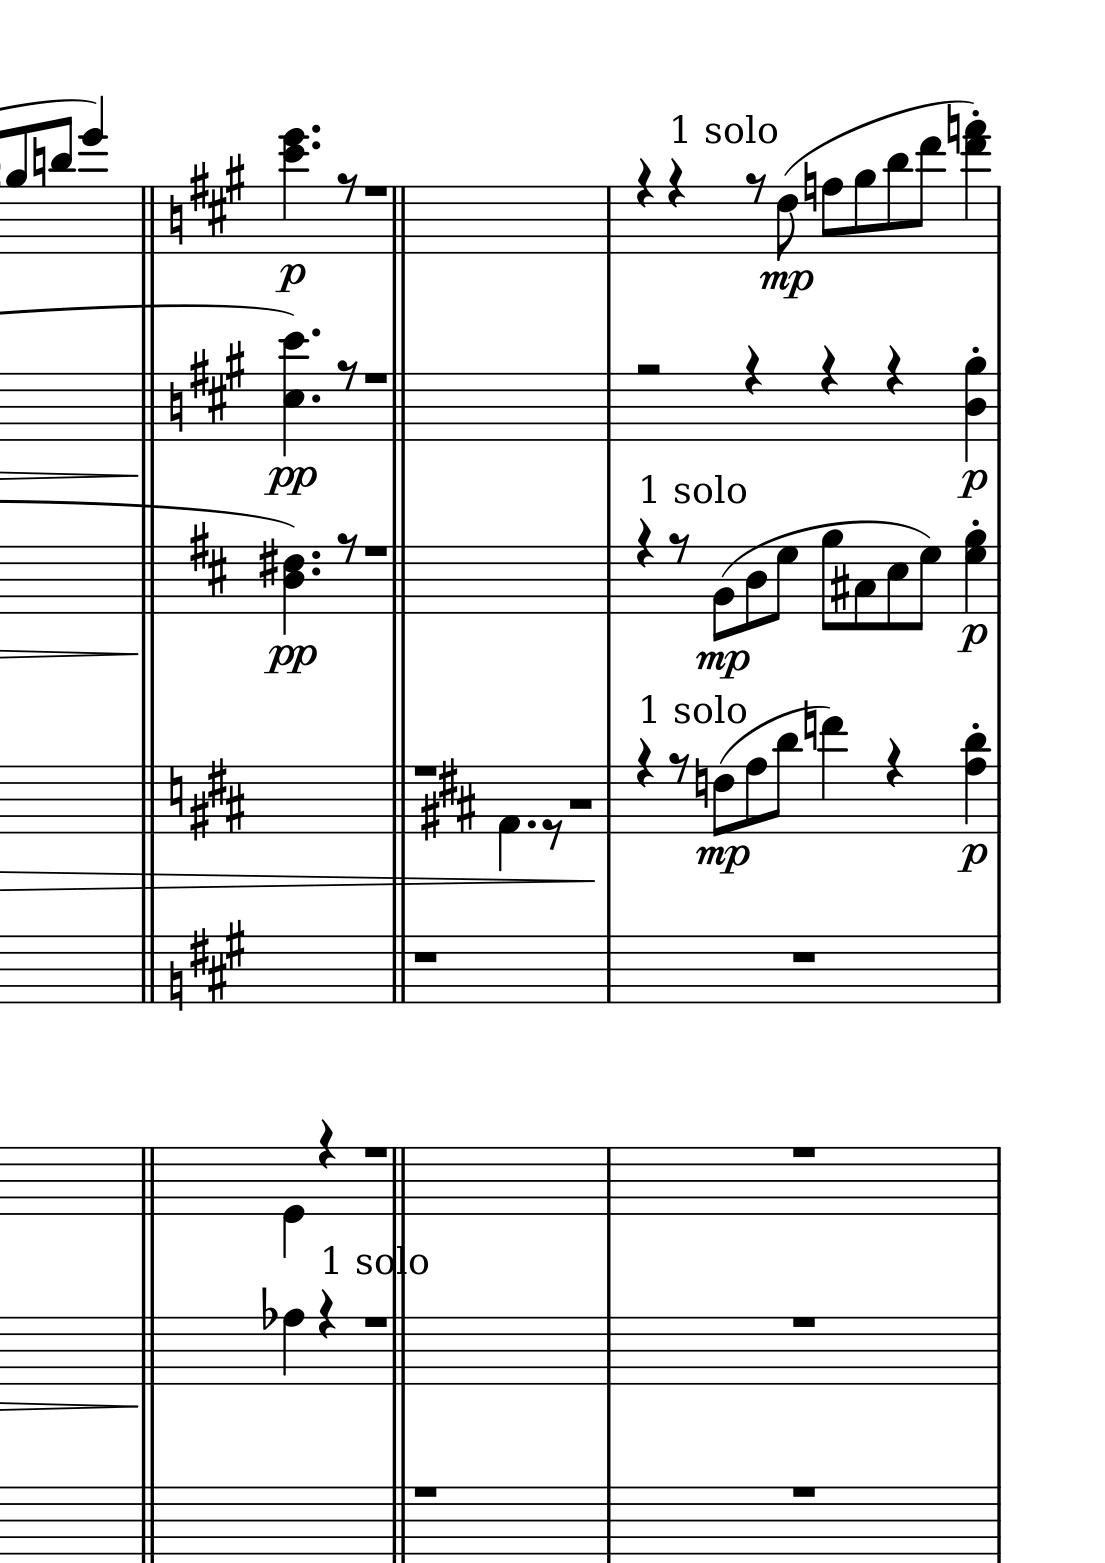4_0: (280, 1144, 304, 1260)
4_1: (495, 762, 520, 873)
4_12_14: (277, 128, 310, 257)
4_13: (817, 715, 845, 835)
4_13_15: (961, 118, 990, 255)
4_14: (78, 94, 106, 260)
4_4_6: (282, 545, 306, 636)
4_4_9: (961, 355, 988, 462), (964, 529, 988, 616)
4_5_12: (279, 331, 309, 457)
4_8: (281, 1307, 305, 1388)
4_8_11: (961, 731, 993, 836)
8_11: (47, 111, 73, 257), (768, 729, 800, 835), (884, 152, 910, 256)
8_13: (912, 136, 942, 255)
8_2: (712, 545, 734, 639)
8_3: (850, 547, 877, 633)
8_4: (744, 545, 767, 631)
8_5: (884, 544, 908, 633)
8_6: (774, 183, 798, 262), (710, 763, 734, 837)
8_7: (911, 544, 941, 631), (768, 544, 798, 625)
8_8: (819, 176, 843, 256), (743, 756, 767, 835)
8_9: (4, 128, 28, 255), (819, 529, 845, 630), (851, 167, 877, 256)
A_S: (187, 151, 248, 239), (185, 344, 248, 425), (187, 758, 248, 839), (189, 918, 246, 1001), (421, 762, 478, 836)
Double_barline: (132, 764, 164, 834), (133, 1485, 165, 1555), (383, 936, 414, 1005), (133, 1315, 163, 1385), (384, 1486, 414, 1553), (133, 935, 161, 1005), (384, 1146, 413, 1215), (133, 372, 161, 440), (134, 1147, 161, 1215), (385, 187, 413, 254), (385, 374, 413, 441), (134, 547, 161, 613), (385, 1318, 413, 1385), (385, 765, 411, 834), (386, 547, 413, 613), (135, 185, 160, 255)
Flat: (260, 1286, 277, 1333)
Natural: (164, 958, 187, 1013), (164, 380, 185, 434), (165, 193, 185, 249), (165, 764, 185, 819), (29, 133, 47, 190), (945, 100, 963, 157), (692, 756, 708, 810), (802, 700, 817, 755), (801, 160, 816, 213)
Rests1: (409, 1482, 441, 1503), (788, 1480, 819, 1502), (408, 947, 441, 966), (788, 1311, 819, 1331), (787, 1142, 819, 1161), (788, 948, 819, 966), (359, 1143, 390, 1161), (408, 761, 436, 780), (360, 182, 390, 200), (359, 1314, 389, 1332), (360, 370, 389, 387), (361, 543, 389, 560)
Rests2: (564, 790, 596, 814), (631, 359, 665, 380)
Rests4: (817, 342, 840, 397), (883, 342, 905, 397), (883, 735, 904, 790), (316, 1117, 337, 1172), (665, 157, 686, 210), (741, 343, 763, 396), (634, 155, 654, 209), (634, 738, 654, 792), (316, 1288, 336, 1342), (634, 518, 653, 569)
Rests8: (541, 816, 566, 850), (335, 358, 359, 392), (335, 530, 359, 564), (335, 171, 359, 204), (744, 170, 767, 204), (669, 530, 691, 564), (669, 750, 689, 784)
Sharp: (256, 537, 279, 590), (828, 558, 848, 615)
Single_barline: (597, 373, 619, 440), (597, 187, 619, 252), (598, 547, 619, 613), (597, 1318, 618, 1384), (599, 767, 619, 834), (598, 1486, 618, 1553), (598, 1148, 618, 1213), (599, 938, 618, 1003), (989, 373, 1007, 440), (989, 1486, 1006, 1555), (989, 187, 1006, 254), (990, 1147, 1007, 1214), (989, 1318, 1006, 1385), (989, 938, 1006, 1003), (990, 547, 1006, 615), (990, 767, 1006, 834)
Solo: (673, 470, 749, 507), (703, 110, 779, 146), (352, 1245, 431, 1277), (672, 692, 745, 727)
dot: (310, 551, 320, 576), (309, 391, 323, 407), (309, 138, 323, 152), (309, 122, 322, 135), (309, 564, 322, 578), (525, 818, 538, 831), (309, 326, 322, 338), (309, 549, 322, 561)
mp: (757, 265, 816, 303), (695, 647, 752, 682), (694, 843, 751, 878)
p: (956, 839, 989, 878), (274, 261, 307, 297), (957, 619, 989, 657), (957, 466, 988, 501)
pp: (263, 463, 317, 497), (264, 641, 316, 677)
